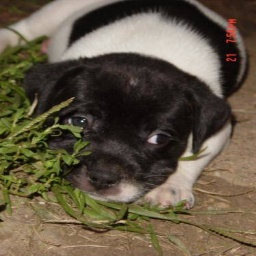dog: (3, 1, 248, 213)
